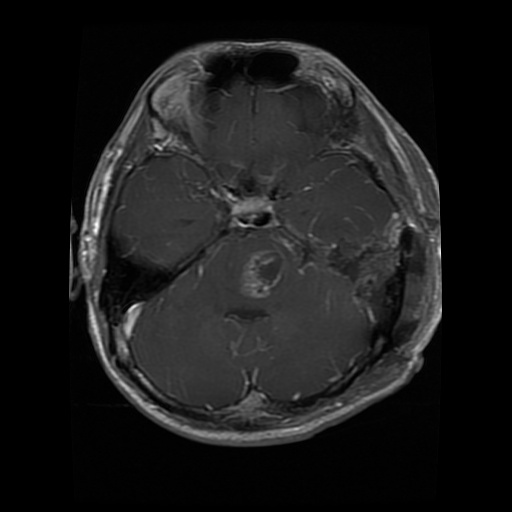glioma: (236, 249, 287, 298)
